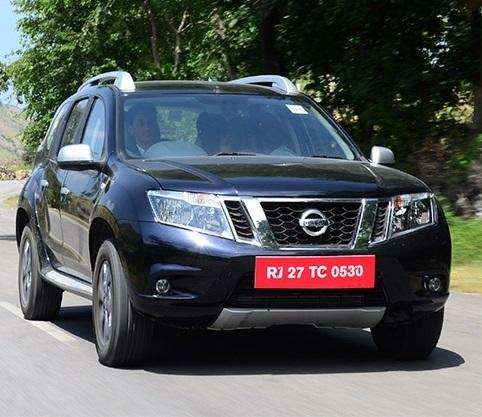License-Plate: (255, 250, 373, 291)
